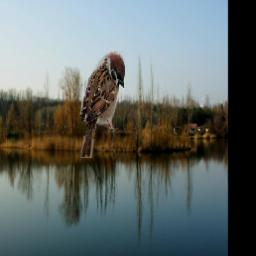Sparrow: (79, 51, 125, 158)
